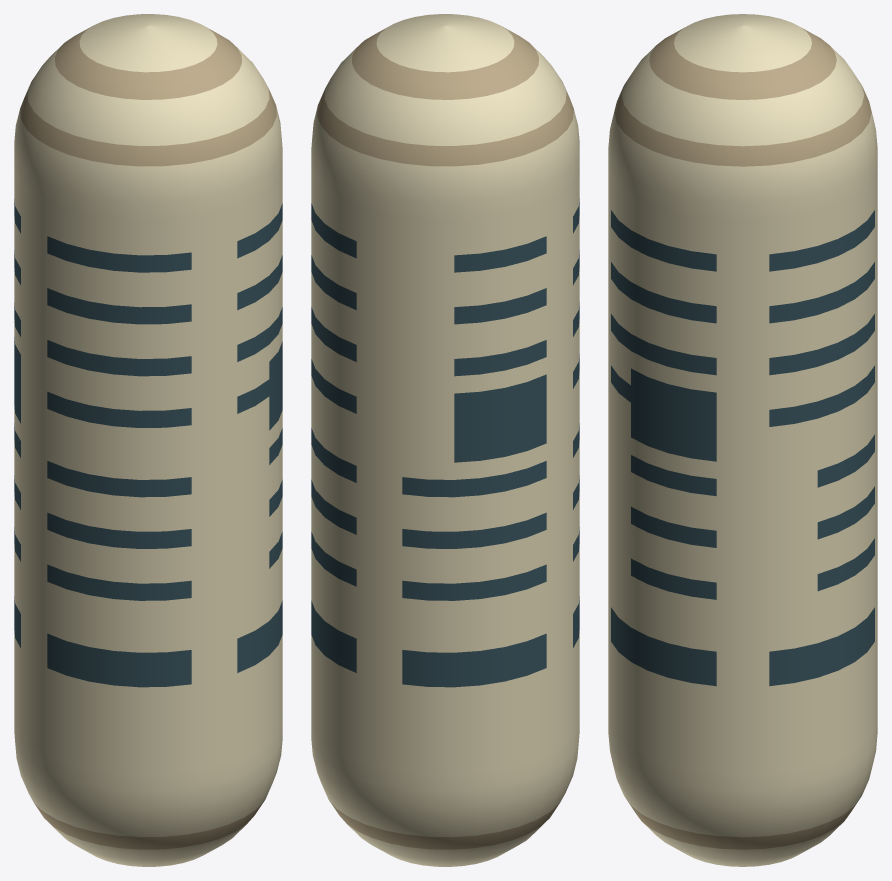
File: newspaper.glb
3 renders of one model, left to right at view 1: azimuth 30°, elevation 25°; view 2: azimuth 150°, elevation 25°; view 3: azimuth 270°, elevation 25°, orthographic.
Parts seen in each view (by area): view 1: newspaper; view 2: newspaper; view 3: newspaper.
Boxes of the visible parts, x1=… form: newspaper: x1=14, y1=14, x2=282, y2=866; newspaper: x1=311, y1=14, x2=579, y2=866; newspaper: x1=608, y1=14, x2=877, y2=866.
Size of the model in its own units: 0.0938 by 0.3187 by 0.0938.
